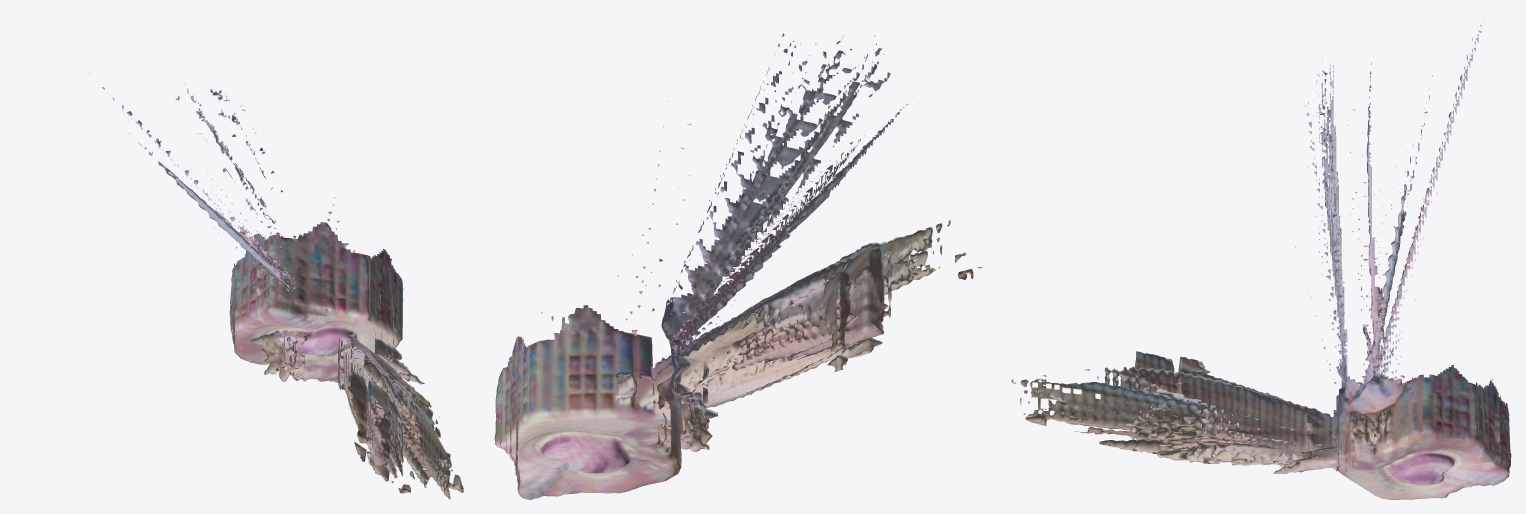
Rendered from heart-pool-1-1_collider.glb.
The picture shows the model from 3 angles, left to right: view 1: azimuth 30°, elevation 25°; view 2: azimuth 150°, elevation 25°; view 3: azimuth 270°, elevation 25°; orthographic projection. The views are drawn at different scales.
Visible parts, largest first — view 1: world; view 2: world; view 3: world.
Part boxes in pixels (box(x1,y1,x2,y2)): world: box(89, 72, 463, 499); world: box(494, 17, 982, 499); world: box(1011, 17, 1511, 499).
Size of the model in its own units: 18.07 by 19.55 by 25.27.
